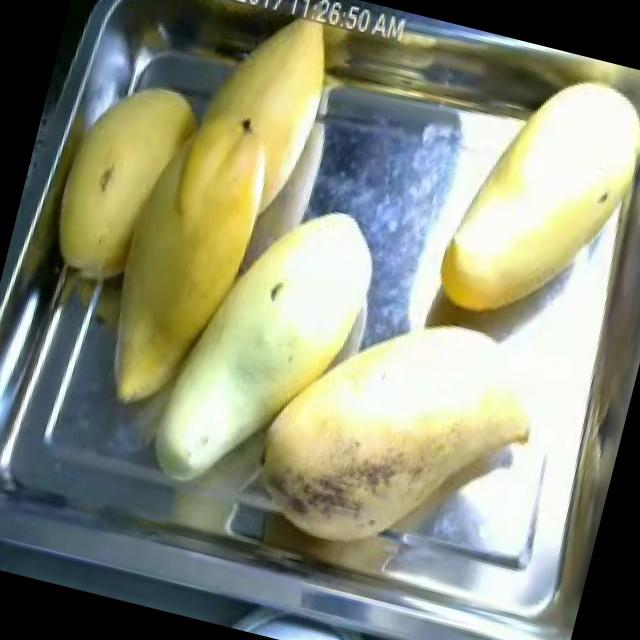fruit: (3, 48, 326, 449), (222, 311, 550, 597), (417, 43, 640, 353)
